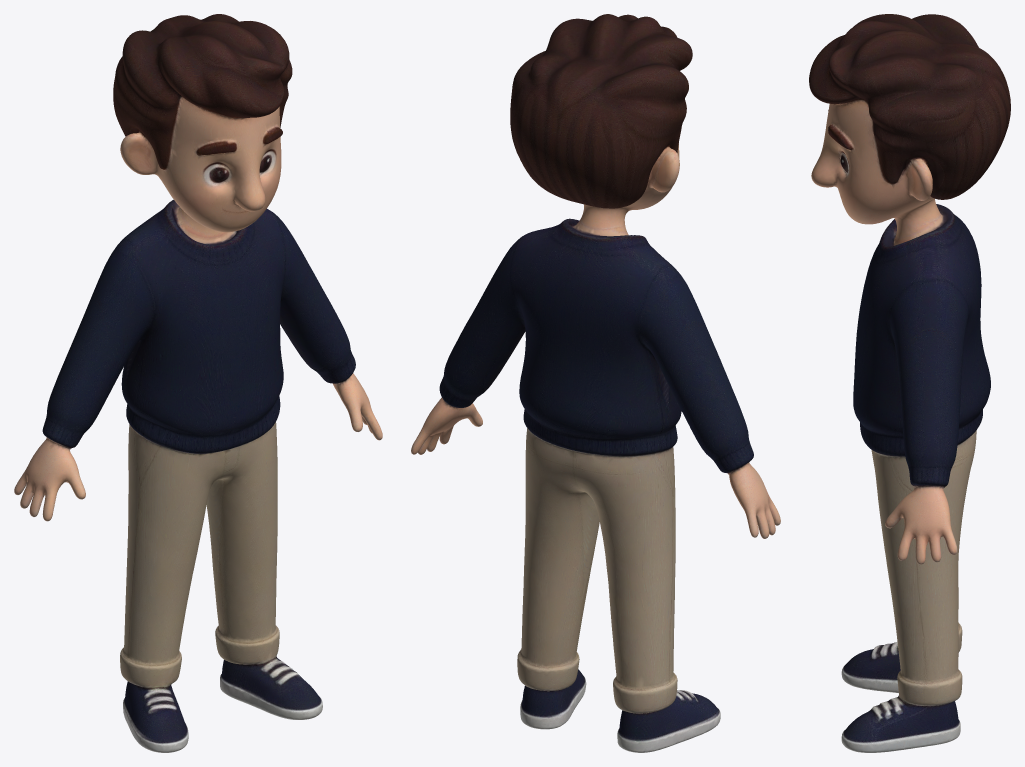
File: Meshy_AI_Cartoon_boy_in_a_blue_0726155643_texture.fbx
3 views of the same model, side by side, from view 1: azimuth 30°, elevation 25°; view 2: azimuth 150°, elevation 25°; view 3: azimuth 270°, elevation 25° (orthographic).
Parts seen in each view (by area): view 1: mesh_node; view 2: mesh_node; view 3: mesh_node.
Boxes of the visible parts, <box> form: mesh_node: <box>14,14,382,752</box>; mesh_node: <box>411,14,780,752</box>; mesh_node: <box>809,14,1010,752</box>.
Size of the model in its own units: 100 by 190 by 50.81.
Materials: 1 (1 with a texture image).
